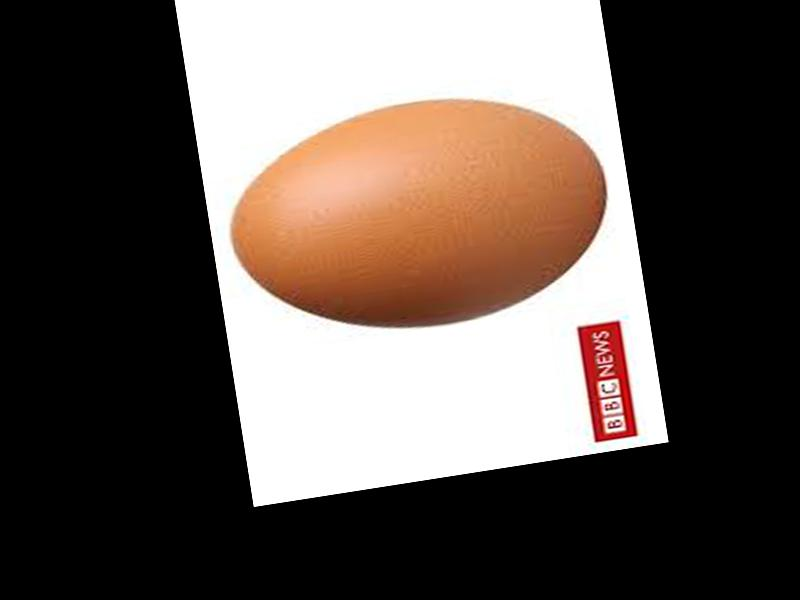Eggs: (218, 74, 620, 353)
